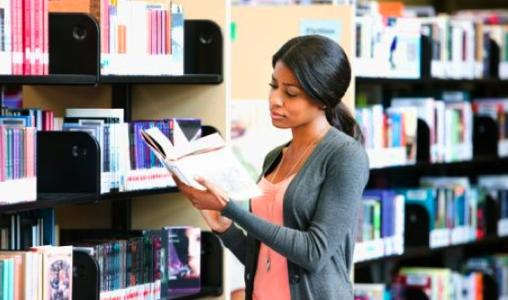person: (169, 37, 375, 300)
